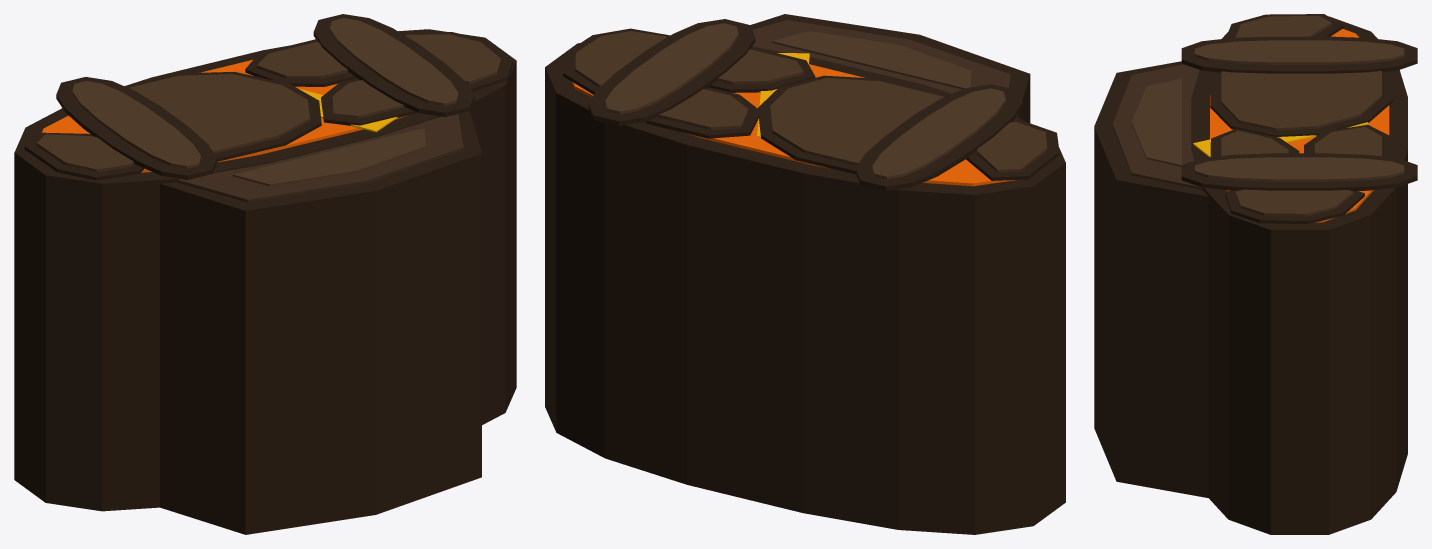
The model's file is bag_rocha_magma.fbx.
3 renders of one model, left to right at view 1: azimuth 30°, elevation 25°; view 2: azimuth 150°, elevation 25°; view 3: azimuth 270°, elevation 25°, orthographic. The views are drawn at different scales.
Parts seen in each view (by area): view 1: bag_rocha_magma_mochila, bag_rocha_magma_mochila_neon; view 2: bag_rocha_magma_mochila, bag_rocha_magma_mochila_neon; view 3: bag_rocha_magma_mochila, bag_rocha_magma_mochila_neon.
Boxes of the visible parts, x1,y1,x2,y2 form: bag_rocha_magma_mochila: [14, 14, 516, 534]; bag_rocha_magma_mochila_neon: [42, 60, 407, 172]; bag_rocha_magma_mochila: [545, 14, 1065, 534]; bag_rocha_magma_mochila_neon: [572, 53, 1015, 186]; bag_rocha_magma_mochila: [1094, 14, 1417, 534]; bag_rocha_magma_mochila_neon: [1193, 29, 1389, 222].
Size of the model in its own units: 2.71 by 1.88 by 1.73.
Materials: 1 (1 with a texture image).
